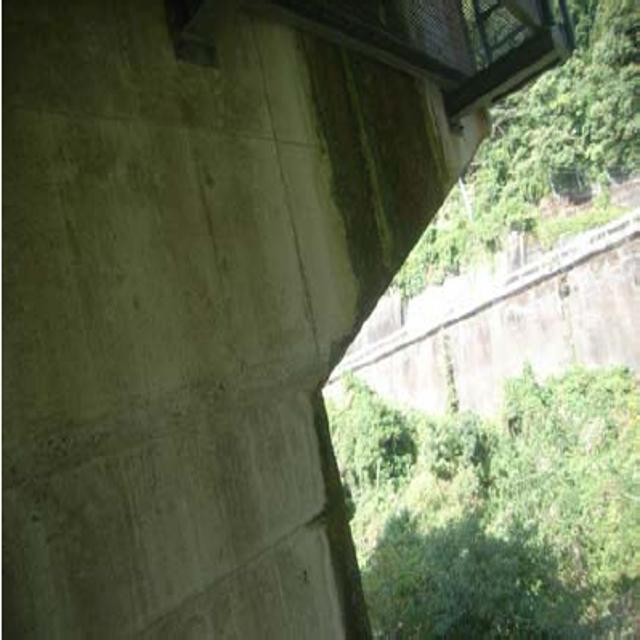leakage: (294, 13, 456, 296)
